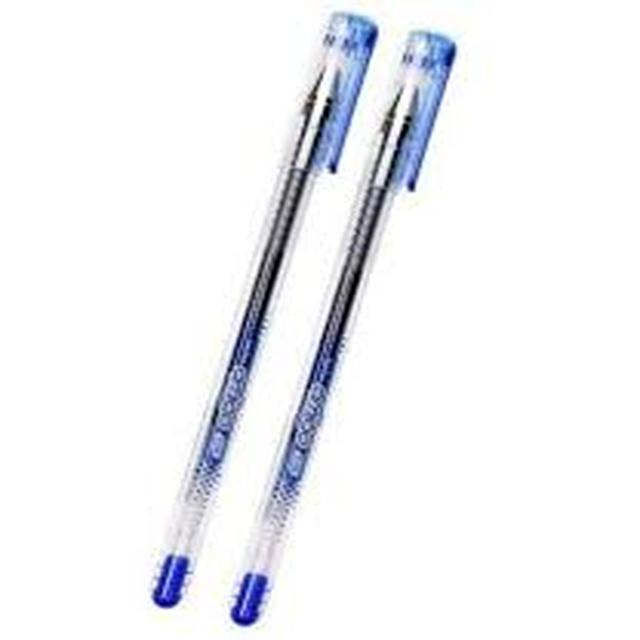pen: (130, 6, 392, 627), (361, 0, 437, 626)
